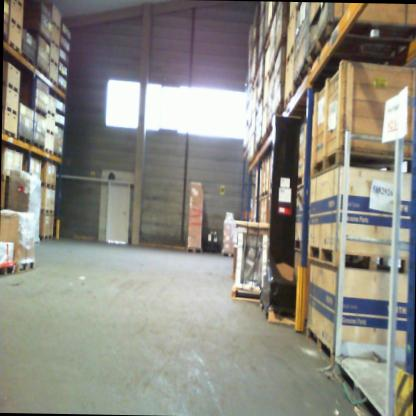pallet: (306, 18, 416, 70), (301, 324, 396, 372), (310, 147, 413, 179), (306, 242, 412, 271), (290, 54, 310, 98), (230, 281, 265, 303), (5, 37, 23, 54), (284, 43, 295, 70), (0, 260, 16, 278), (15, 257, 34, 272), (7, 17, 24, 33), (19, 50, 36, 66), (36, 62, 50, 81), (2, 105, 19, 118), (283, 90, 294, 110), (2, 81, 20, 93), (291, 236, 302, 254), (17, 134, 32, 146), (184, 245, 202, 255), (1, 128, 17, 139), (39, 181, 56, 191), (38, 232, 53, 243), (221, 249, 236, 260), (49, 55, 59, 71), (258, 186, 270, 199), (32, 139, 45, 151), (39, 206, 54, 216), (57, 83, 67, 96), (10, 0, 24, 9), (45, 107, 56, 118), (48, 74, 57, 87), (50, 36, 59, 49), (44, 145, 54, 155), (296, 175, 303, 188), (51, 21, 61, 30), (45, 127, 54, 136), (52, 150, 62, 158)
